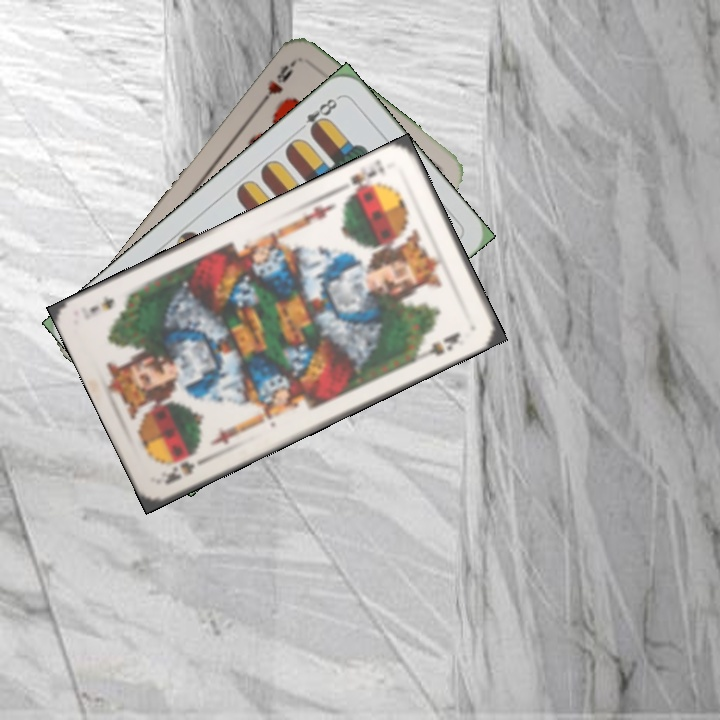E8: (293, 92, 343, 137)
H9: (255, 58, 297, 109)
SK: (343, 155, 388, 200), (161, 454, 208, 487)
